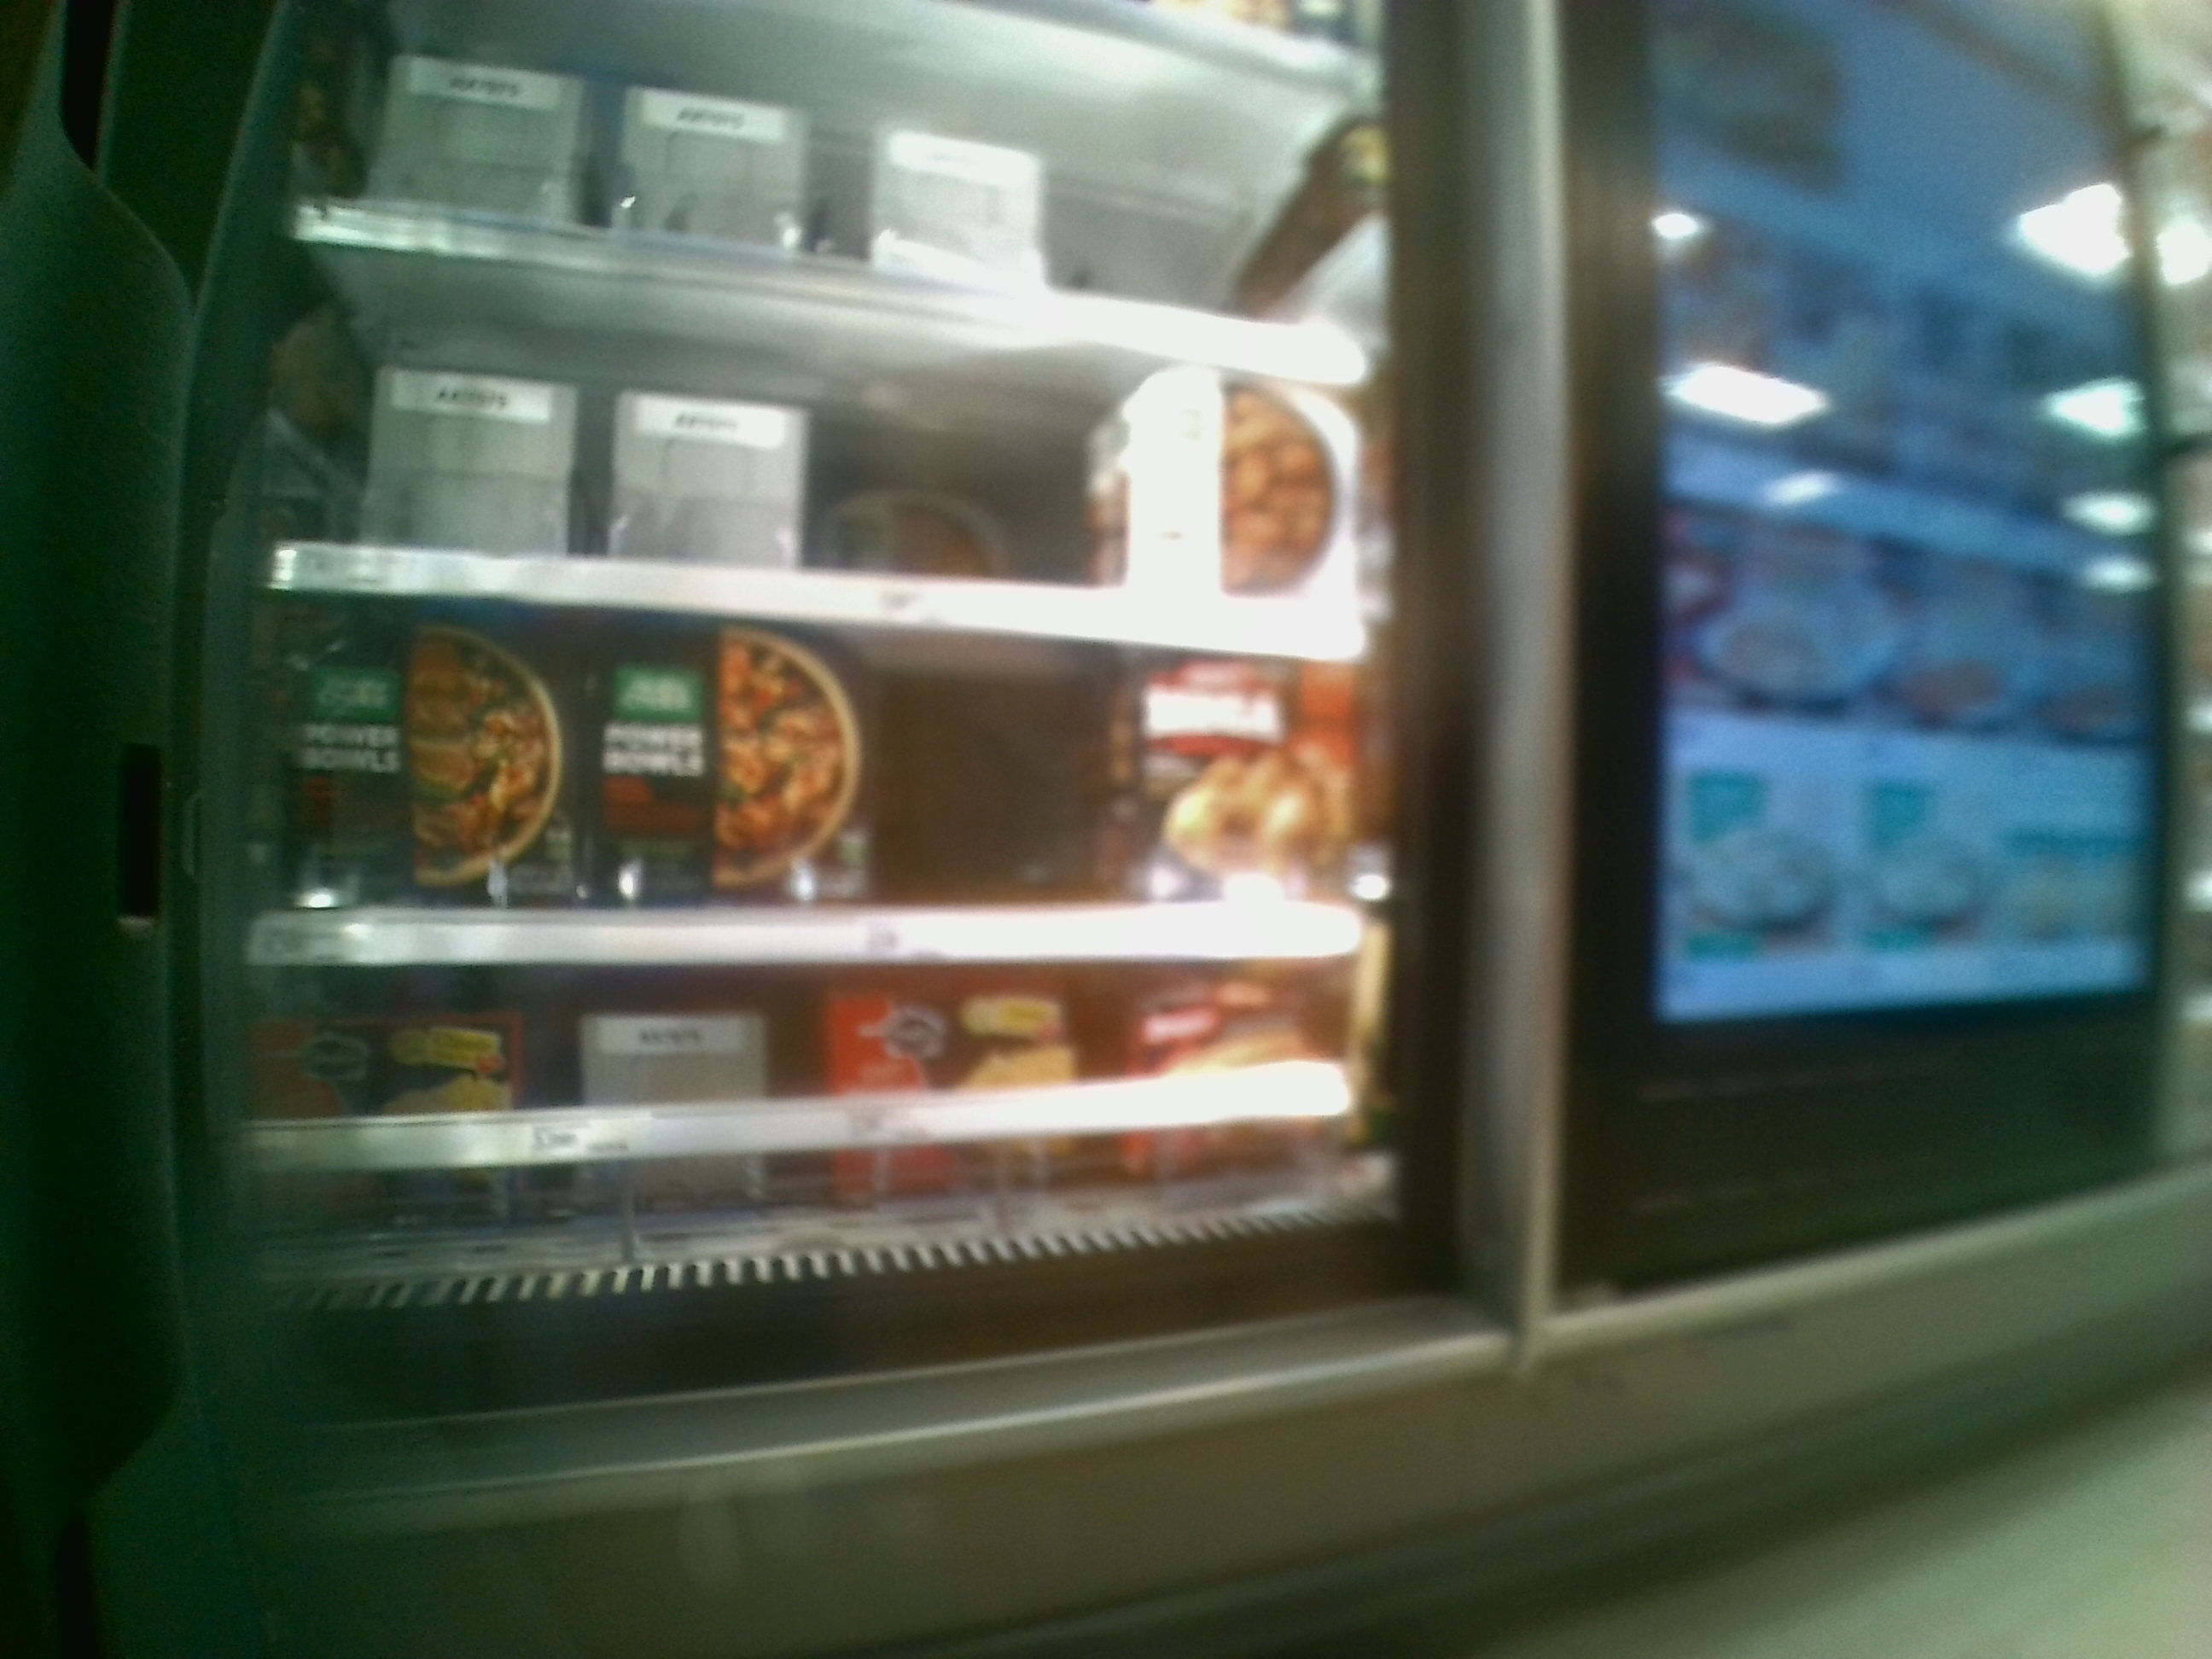Shelf: (249, 591, 1366, 958), (240, 962, 1385, 1281)
